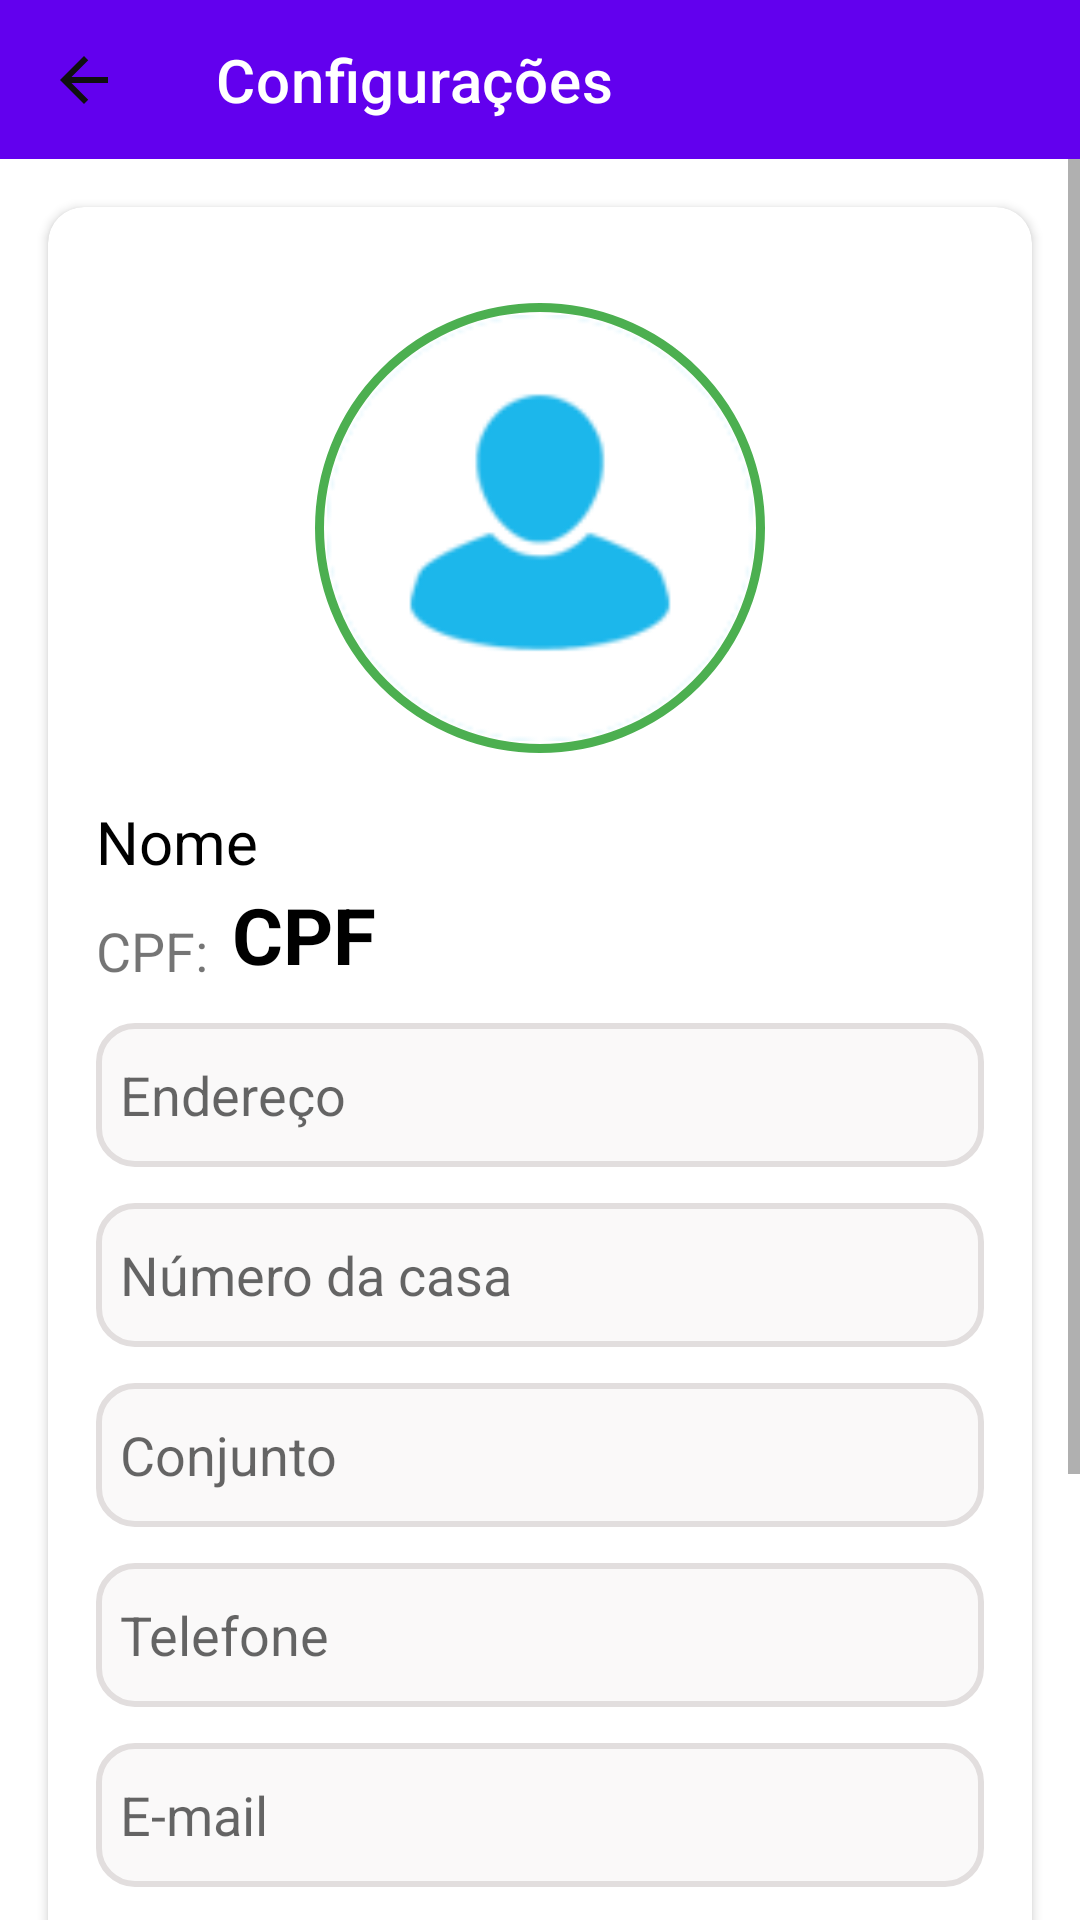

Point at icon controls on the screen. Image size 1080x1920, points as point (x, y).
profile: point (540, 522)
